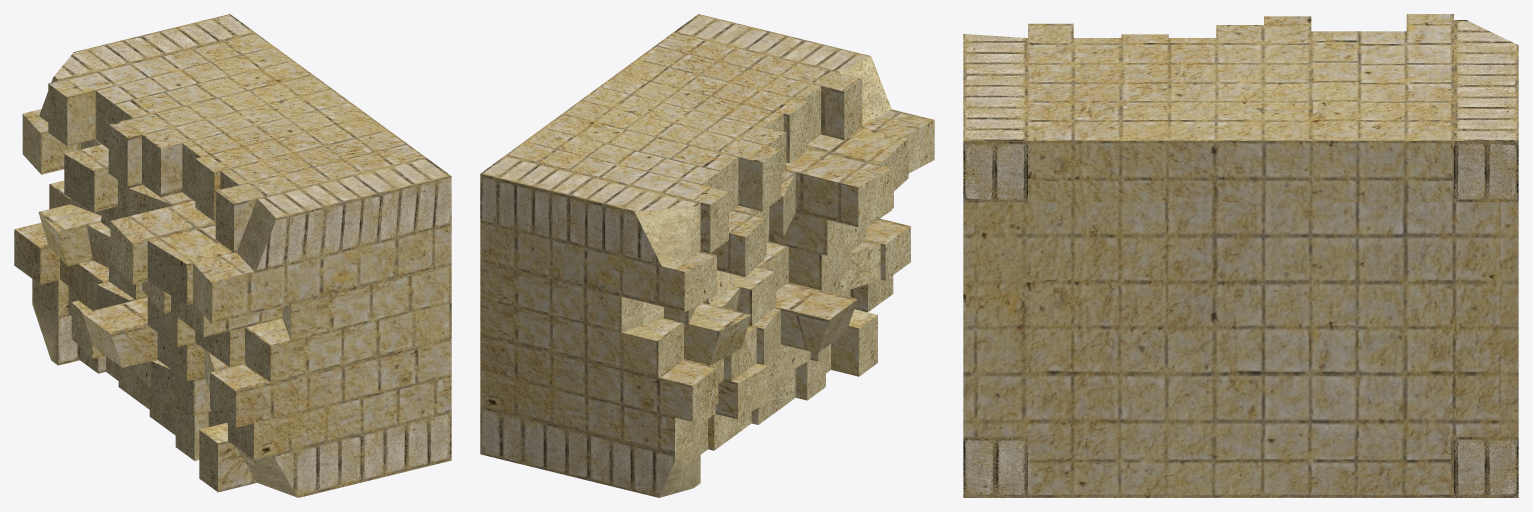
Rendered from bridge_structure_upper_level_broken01.dae.
3 renders of one model, left to right at view 1: azimuth 30°, elevation 25°; view 2: azimuth 150°, elevation 25°; view 3: azimuth 270°, elevation 25°, orthographic. The views are drawn at different scales.
Visible parts, largest first — view 1: bridge_structure_upper_level_broken01; view 2: bridge_structure_upper_level_broken01; view 3: bridge_structure_upper_level_broken01.
Part boxes in pixels (x1,y1,x2,y2): bridge_structure_upper_level_broken01: [14, 14, 451, 497]; bridge_structure_upper_level_broken01: [480, 14, 934, 497]; bridge_structure_upper_level_broken01: [963, 14, 1518, 497].
Size of the model in its own units: 4.3 by 6.38 by 4.52.
Materials: 3 (3 with a texture image).
